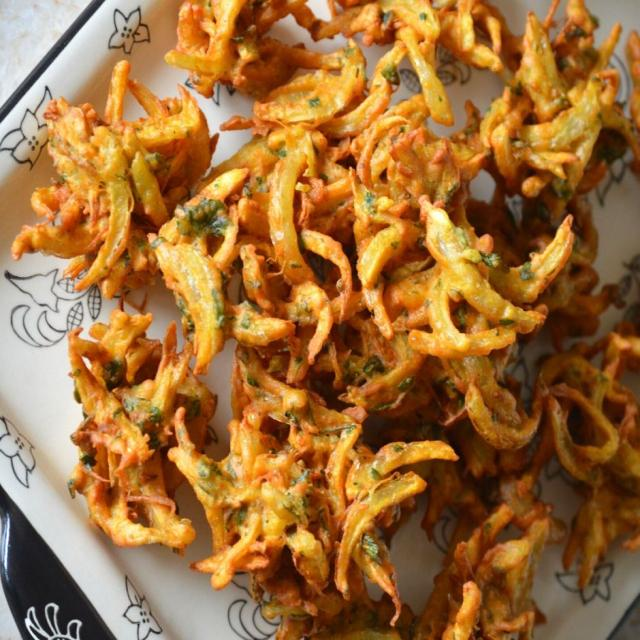BAJI: (24, 3, 639, 639)
